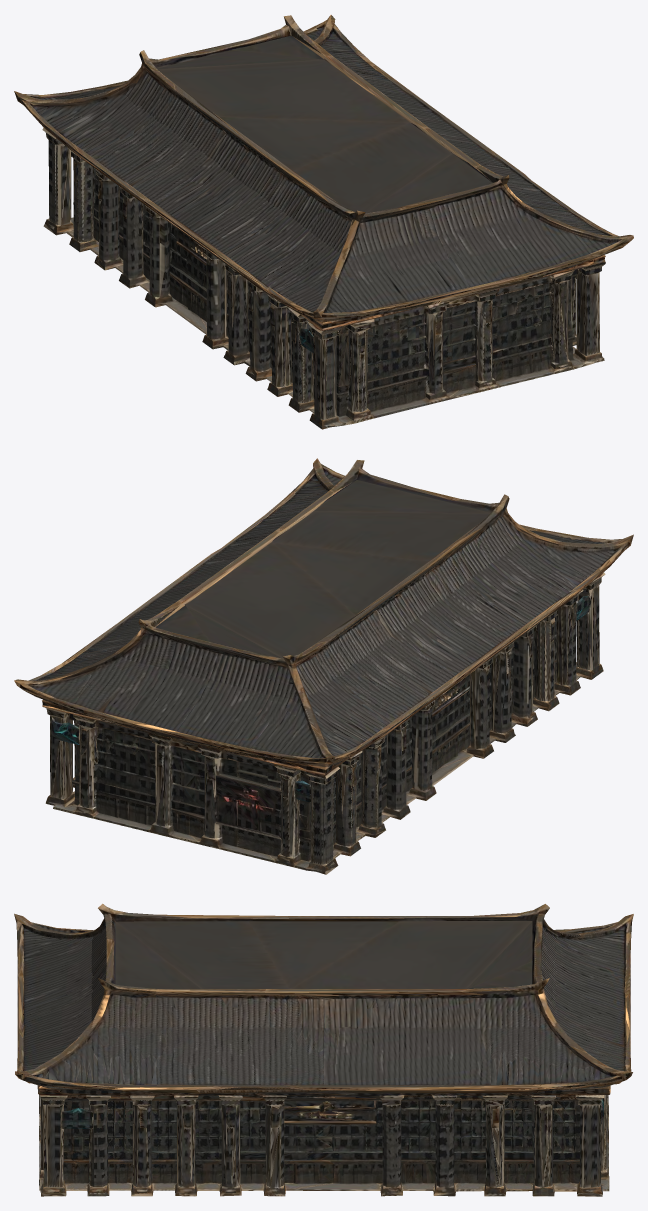
The picture shows the model from 3 angles, top to bottom: view 1: azimuth 30°, elevation 25°; view 2: azimuth 150°, elevation 25°; view 3: azimuth 270°, elevation 25°; orthographic projection. The views are drawn at different scales.
Visible parts, largest first — view 1: c01; view 2: c01; view 3: c01.
Part boxes in pixels (bbox=[...]): c01: bbox=[14, 15, 633, 429]; c01: bbox=[14, 458, 633, 874]; c01: bbox=[14, 903, 633, 1196].
Bounding box in the file's own units: 109 × 60 × 181.
Materials: 1 (1 with a texture image).
